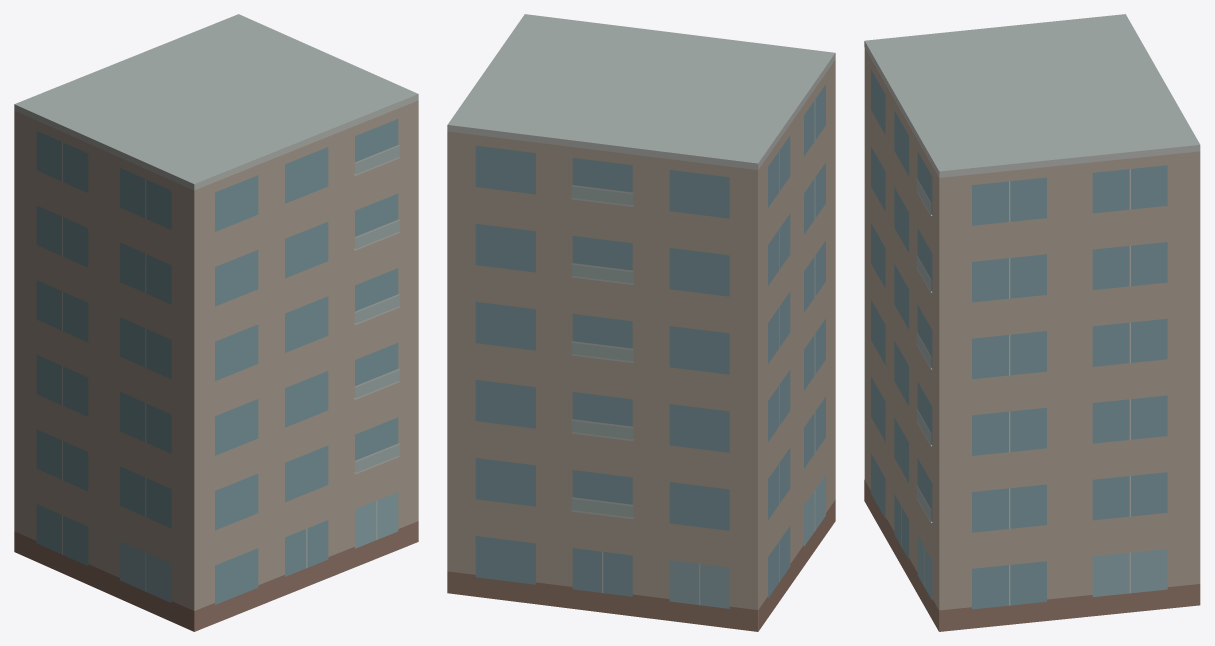
File: survey-upis-32837102.glb
3 renders of one model, left to right at view 1: azimuth 30°, elevation 25°; view 2: azimuth 150°, elevation 25°; view 3: azimuth 270°, elevation 25°, orthographic. The views are drawn at different scales.
Visible parts, largest first — view 1: survey-upis-32837102.tmp; view 2: survey-upis-32837102.tmp; view 3: survey-upis-32837102.tmp.
Boxes of the visible parts, x1,y1,x2,y2 form: survey-upis-32837102.tmp: (14,14,418,631); survey-upis-32837102.tmp: (447,14,835,631); survey-upis-32837102.tmp: (864,14,1200,631).
Bounding box in the file's own units: 12.77 × 17.4 × 11.52.
